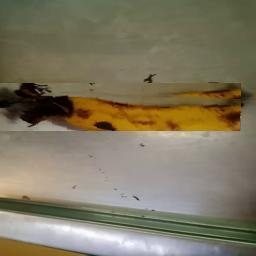Banana Semifresh: (0, 85, 241, 131)
